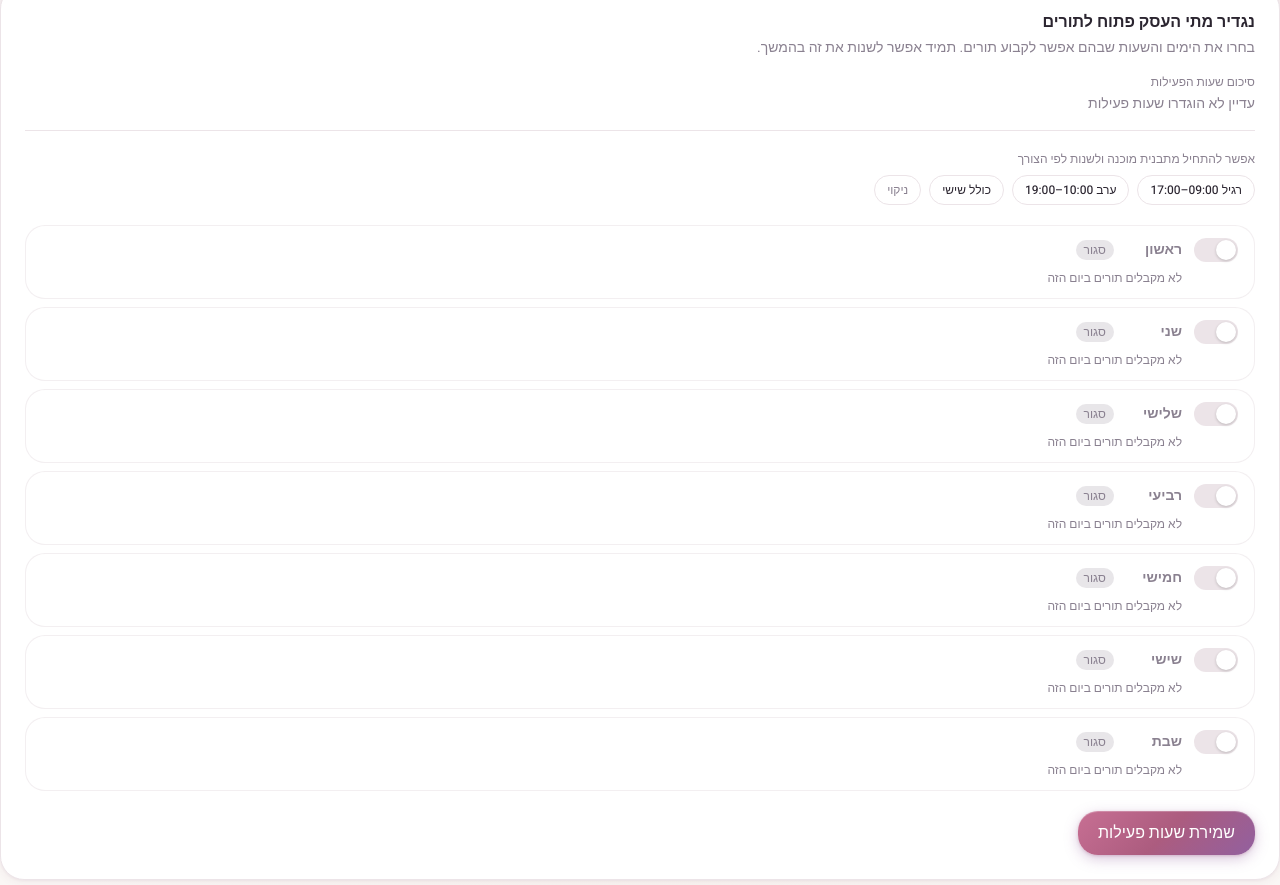
WeeklyAvailabilityForm › clears the success state and shows an error on a subsequent failing submit
Click the button "שמירת שעות פעילות".
click(1166, 833)  # box [1078, 811, 1255, 855]
(page scrolled)
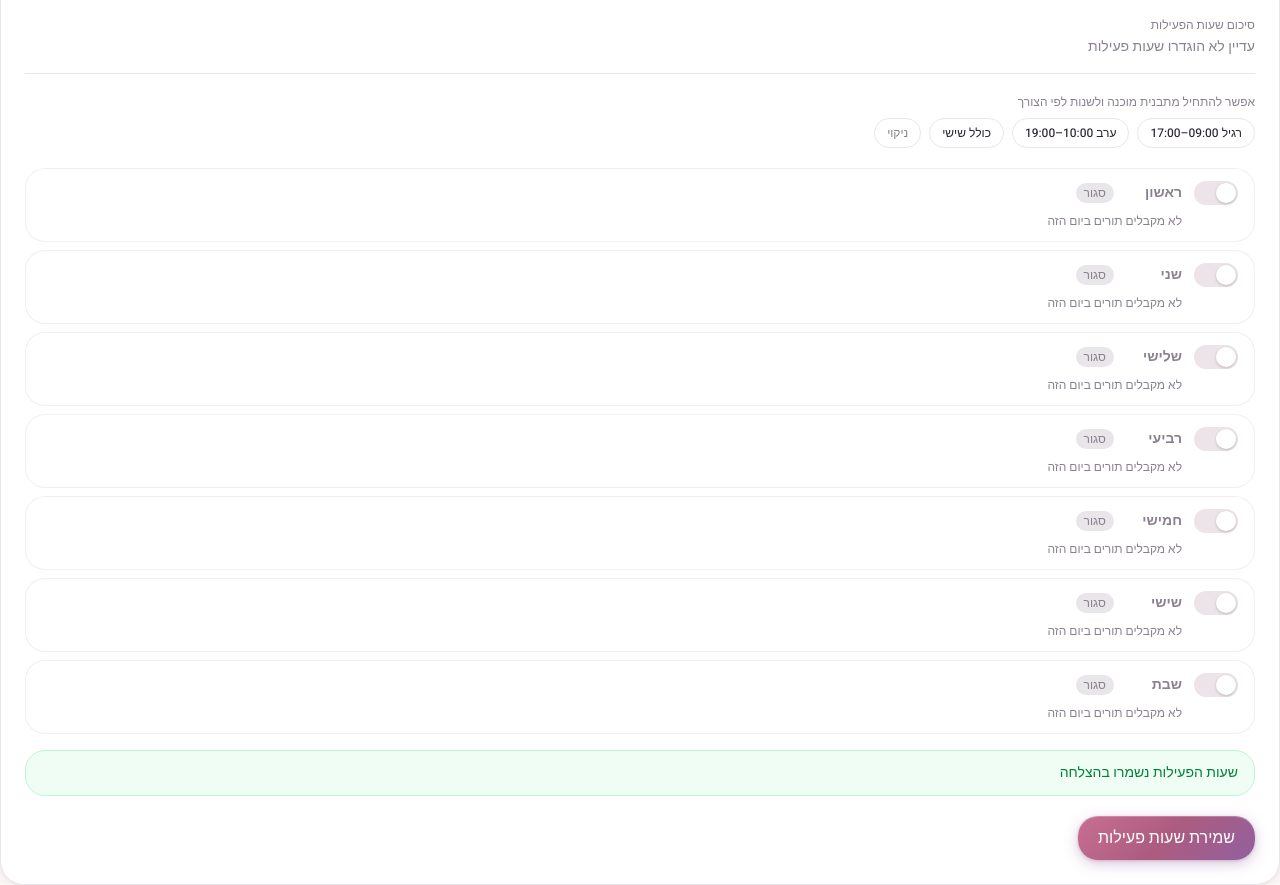
Expected: the text "שעות הפעילות נשמרו בהצלחה" is shown, [25, 750, 1255, 796]
Click the button "שמירת שעות פעילות".
click(1166, 838)  # box [1078, 816, 1255, 860]
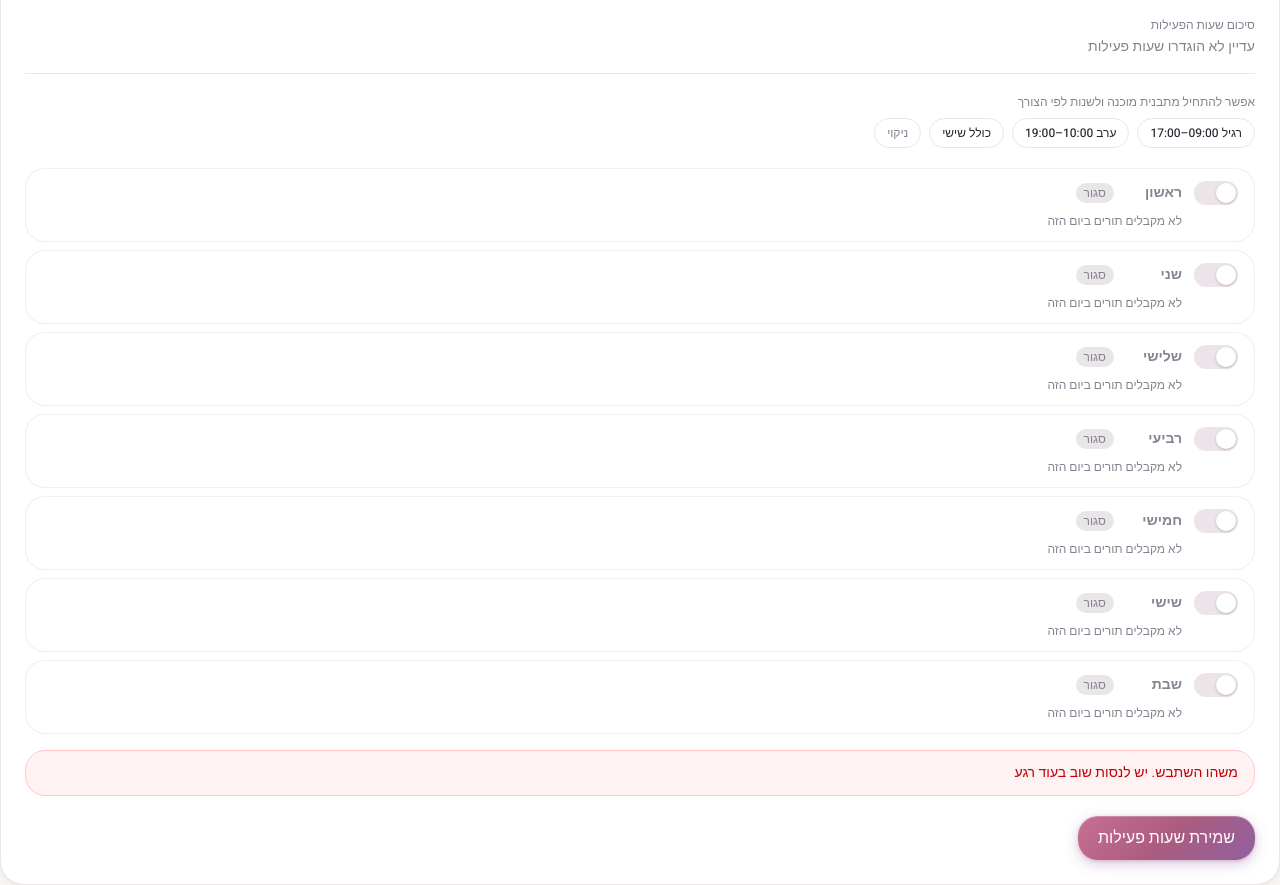
Expected: the text "משהו השתבש. יש לנסות שוב בעוד רגע" is shown, [25, 750, 1255, 796]
Expected: the text "שעות הפעילות נשמרו בהצלחה" is gone
